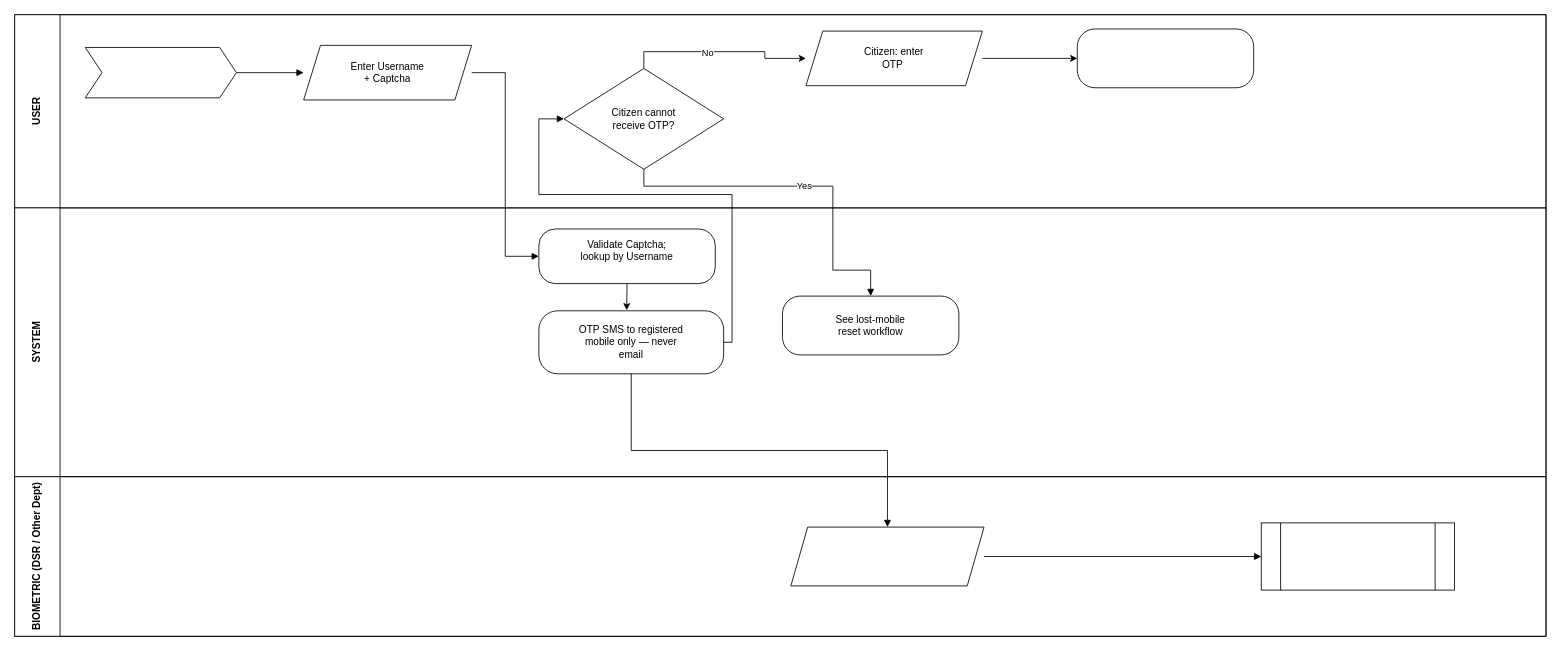
The diagram is 1561 pixels wide and 651 high, and some of its shapes have lost their labels. The shapes that lost their labels are listed below. From the top down, each one's centre as x and y in pixels, then its label:
At point 160,72: "Open login screen".
At point 1165,58: "Citizen home / profile".
At point 887,556: "DSR / Other Dept: enter OTP + Biometrics".
At point 1357,556: "Post selection".
